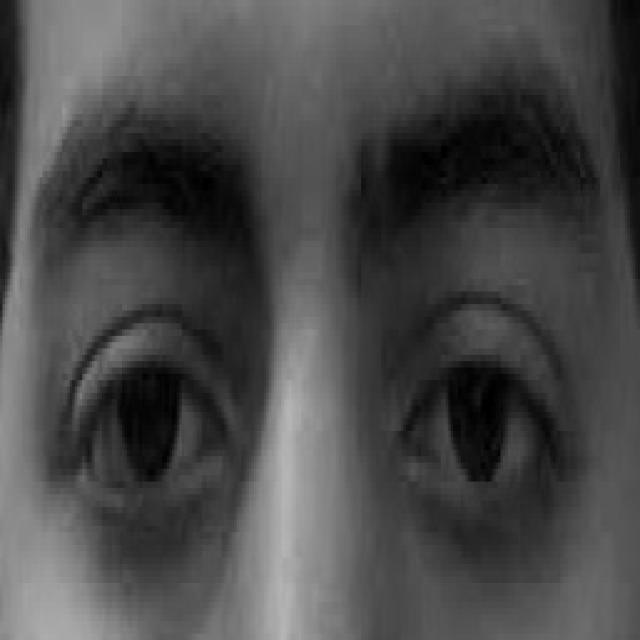real: (27, 88, 613, 598)
